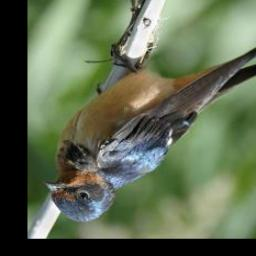Swallow: (43, 14, 256, 223)
